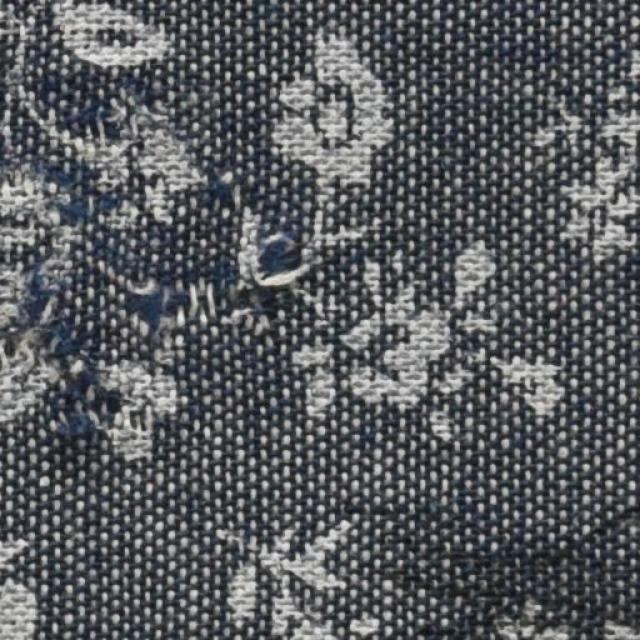Snag: (0, 13, 205, 245), (0, 201, 156, 451), (139, 264, 244, 339), (235, 214, 306, 298)
